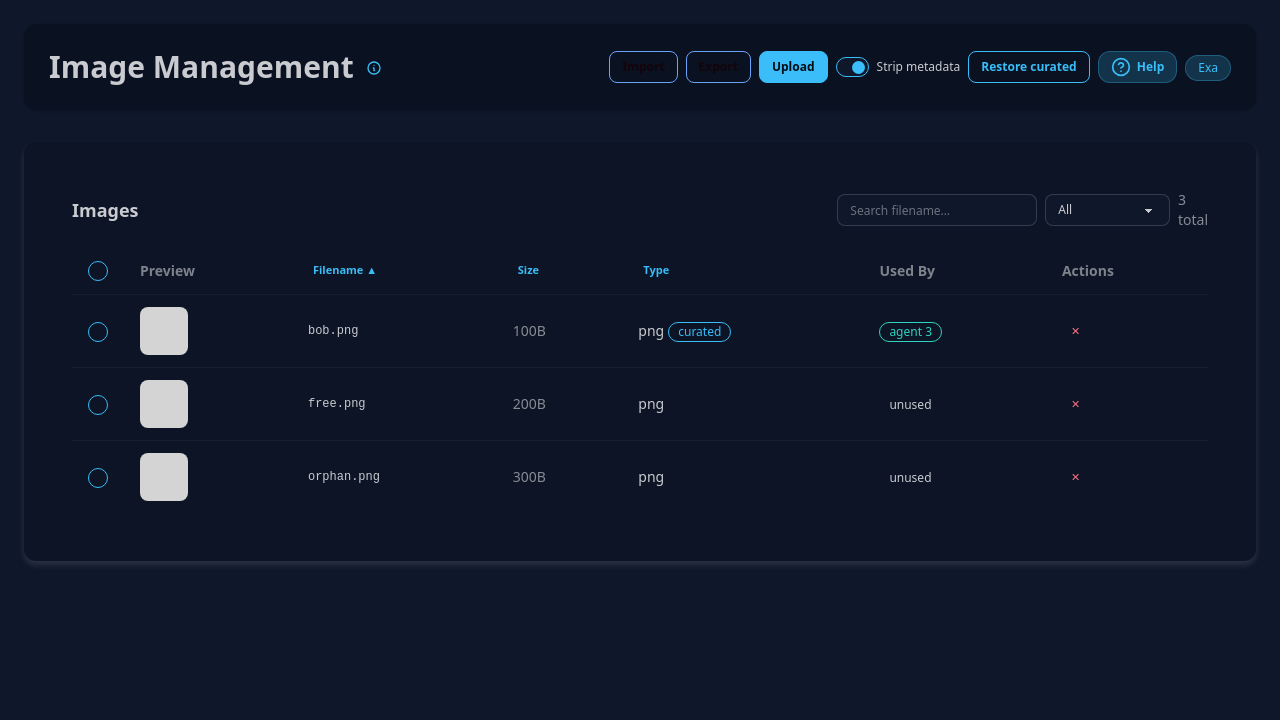
Test: ImageManagement bulk features › batch delete confirms then reports in-use separately
The width and height of the screenshot is (1280, 720).
Later steps or results of the test are not shown.
Expected: the text "bob.png" is shown, [292, 295, 497, 368]
Step 1. Click the checkbox named "Select all shown" → (98, 271), box [88, 261, 108, 281]
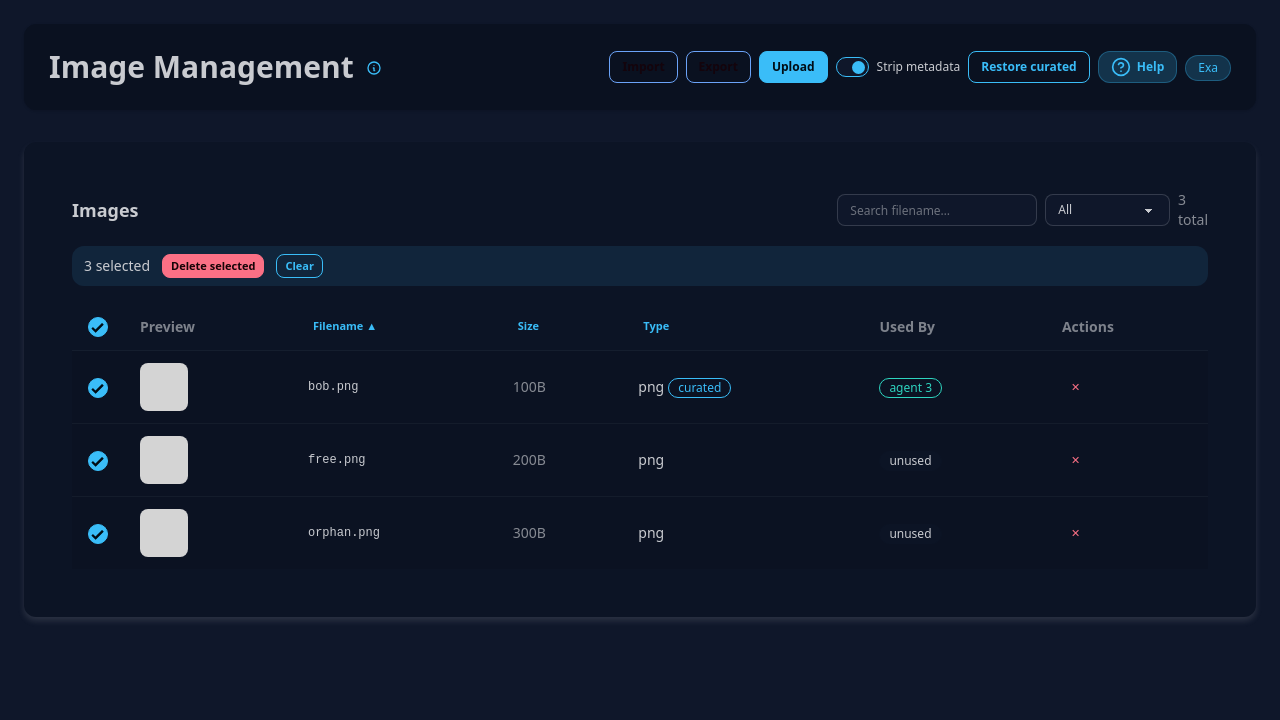
Expected: the text "3 selected" is shown, [84, 256, 150, 276]
Step 2. Click the button "Delete selected" → (213, 266), box [162, 254, 264, 278]
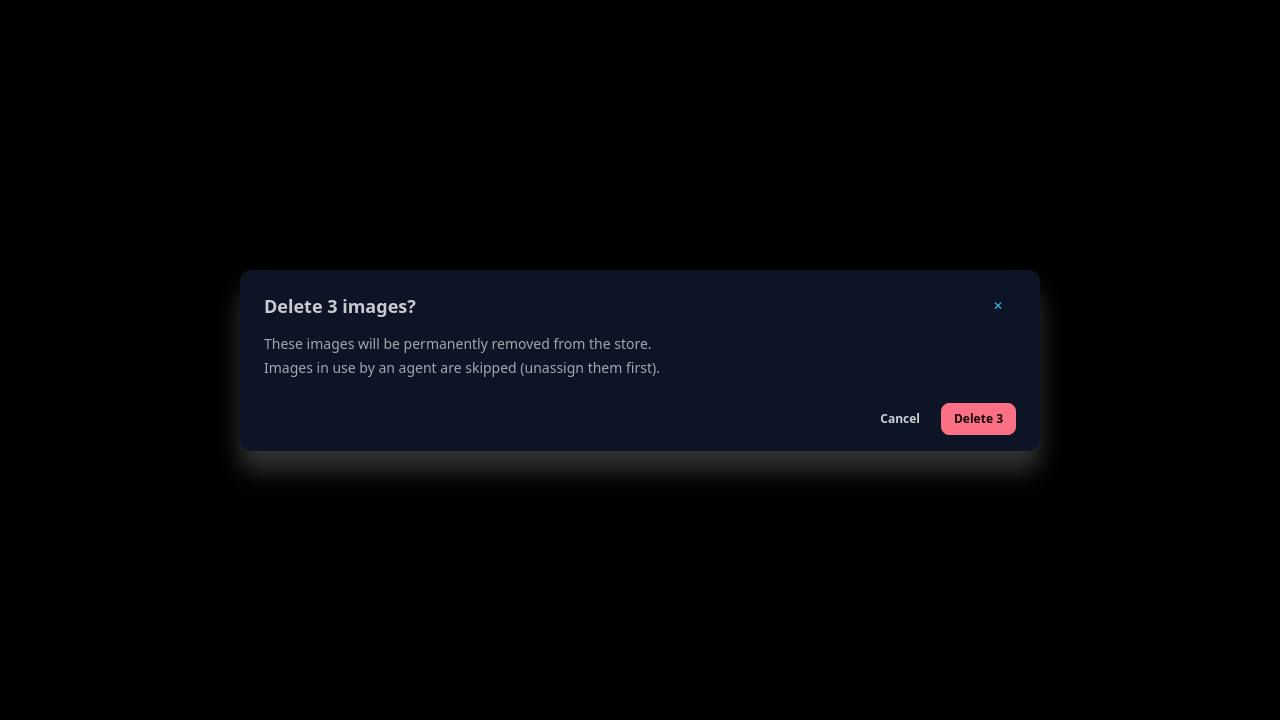
Expected: the heading "Delete 3 images?" is shown, [264, 292, 416, 320]
